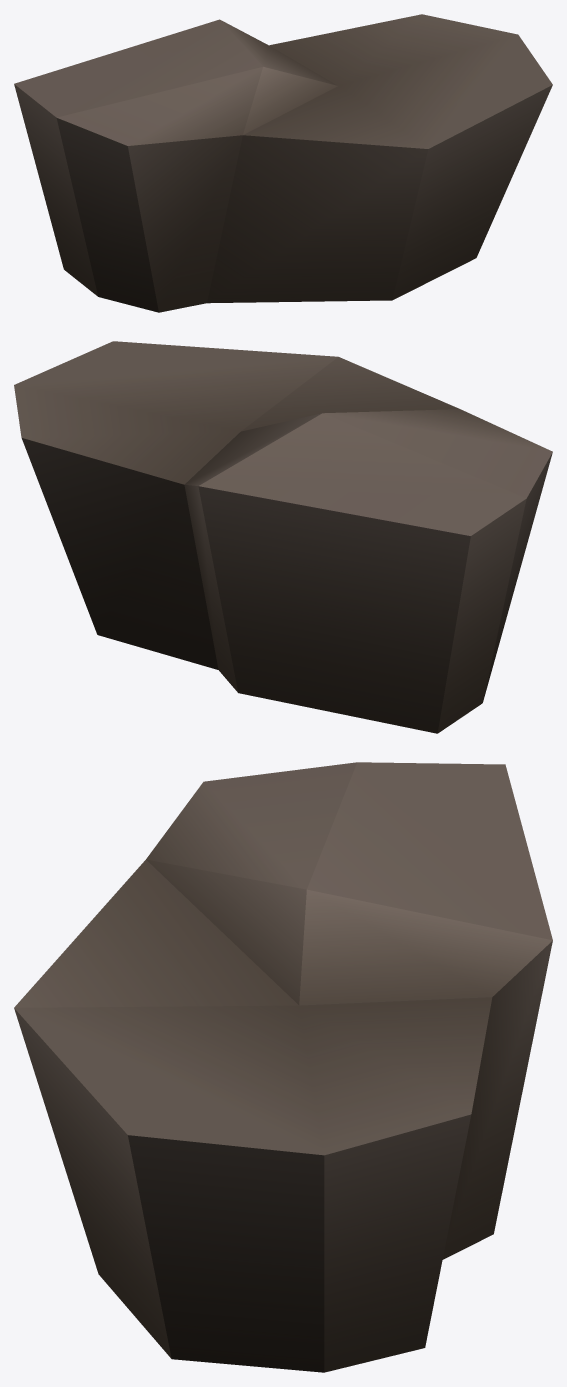
The model's file is rock03_mdl.FBX.
3 views of the same model, one above another, from view 1: azimuth 30°, elevation 25°; view 2: azimuth 150°, elevation 25°; view 3: azimuth 270°, elevation 25° (orthographic). The views are drawn at different scales.
Parts seen in each view (by area): view 1: rock3; view 2: rock3; view 3: rock3.
Boxes of the visible parts, left/top/right/bottom form: rock3: left=14, top=14, right=552, bottom=312; rock3: left=14, top=341, right=552, bottom=733; rock3: left=14, top=762, right=552, bottom=1372.
Size of the model in its own units: 14.42 by 6.19 by 9.1.
1 material, 1 textured.
